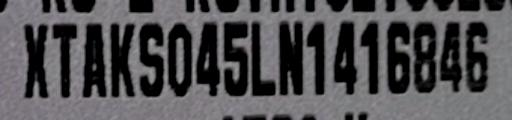letter: (13, 19, 55, 101), (102, 18, 142, 100), (460, 18, 498, 98), (220, 16, 254, 102), (275, 16, 309, 98), (409, 16, 443, 98), (134, 18, 168, 100), (248, 14, 280, 100), (382, 14, 414, 98), (436, 15, 468, 97), (164, 18, 196, 98), (50, 18, 82, 98), (331, 16, 361, 96), (192, 19, 222, 99), (80, 19, 110, 99), (358, 14, 386, 98), (305, 16, 329, 98)
